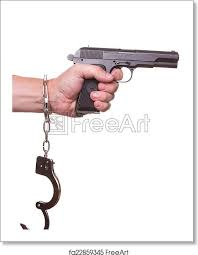gun: (67, 45, 183, 116)
